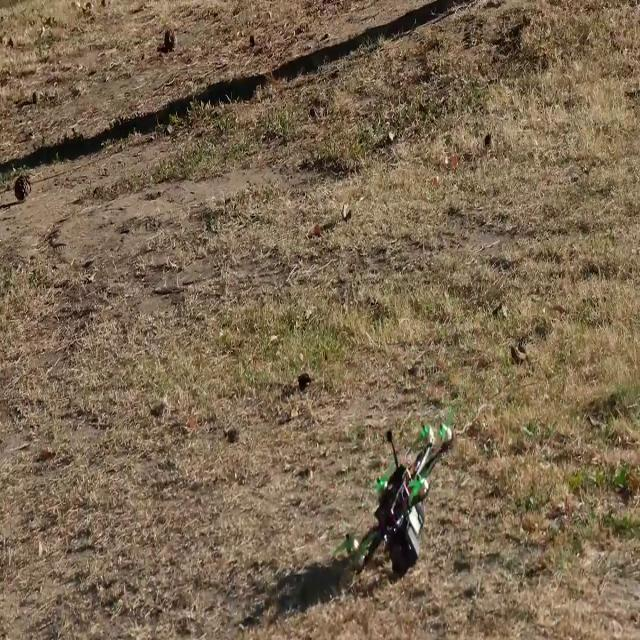drone: (324, 404, 472, 591)
